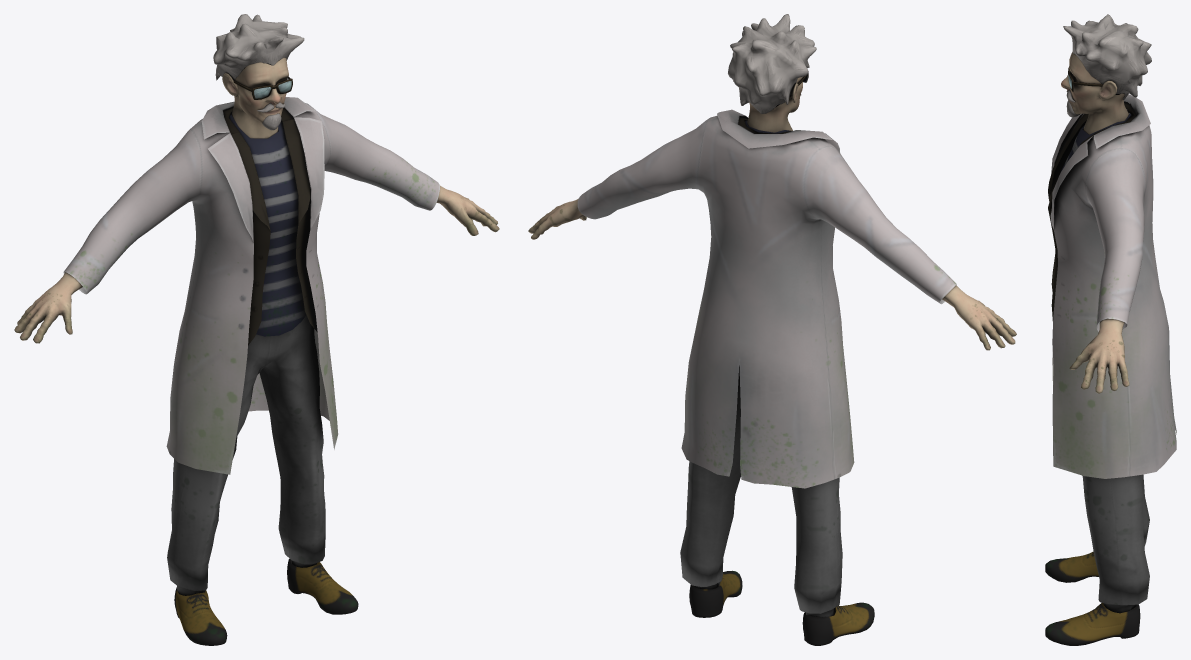
Rendered from docall.obj.
3 renders of one model, left to right at view 1: azimuth 30°, elevation 25°; view 2: azimuth 150°, elevation 25°; view 3: azimuth 270°, elevation 25°, orthographic.
Parts seen in each view (by area): view 1: clouth_clouth_glasses, body_body_bodylowq1; view 2: clouth_clouth_glasses, body_body_bodylowq1; view 3: clouth_clouth_glasses, body_body_bodylowq1.
Boxes of the visible parts, bbox=[...] form: clouth_clouth_glasses: bbox=[63, 76, 439, 645]; body_body_bodylowq1: bbox=[14, 14, 499, 343]; clouth_clouth_glasses: bbox=[577, 73, 956, 645]; body_body_bodylowq1: bbox=[528, 14, 1016, 350]; clouth_clouth_glasses: bbox=[1045, 66, 1176, 645]; body_body_bodylowq1: bbox=[1061, 14, 1151, 393].
Bounding box in the file's own units: 2.99 × 3.53 × 0.7187.
Materials: 1 (1 with a texture image).
